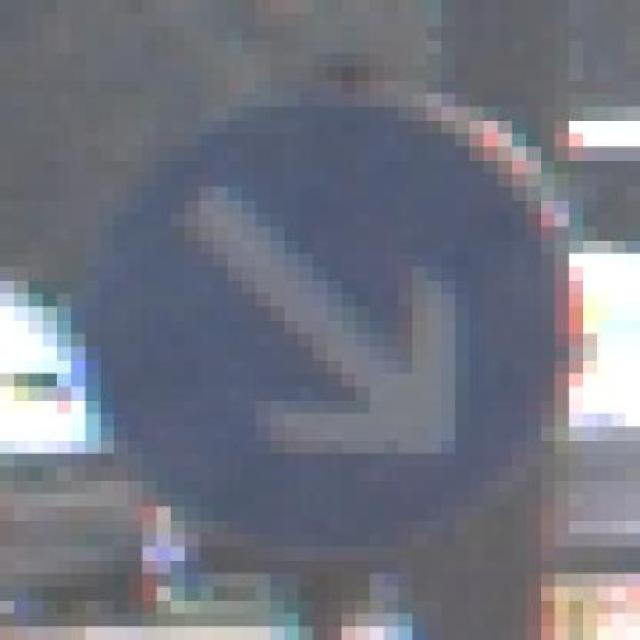Keep-Right: (71, 79, 583, 587)
